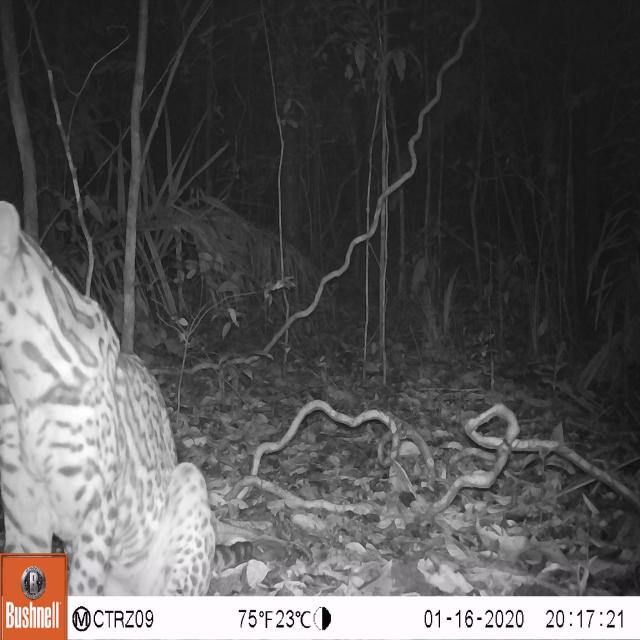Ocelote: (0, 182, 232, 595)
